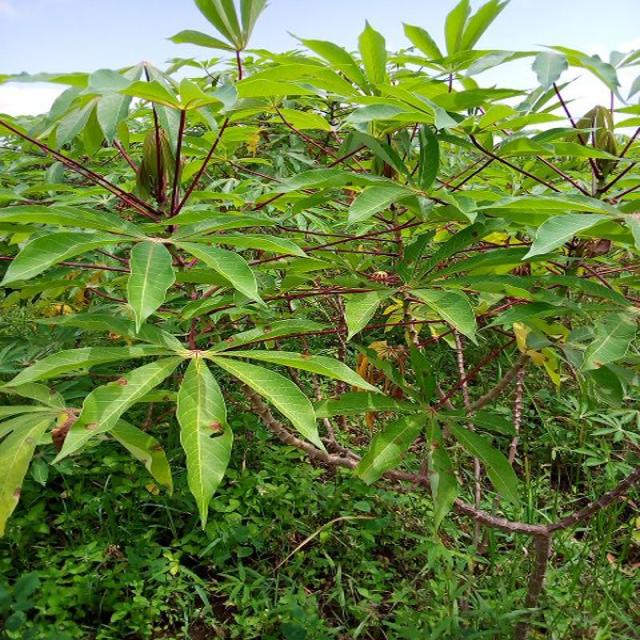cassava leaf: (174, 351, 233, 529), (126, 238, 175, 334)
